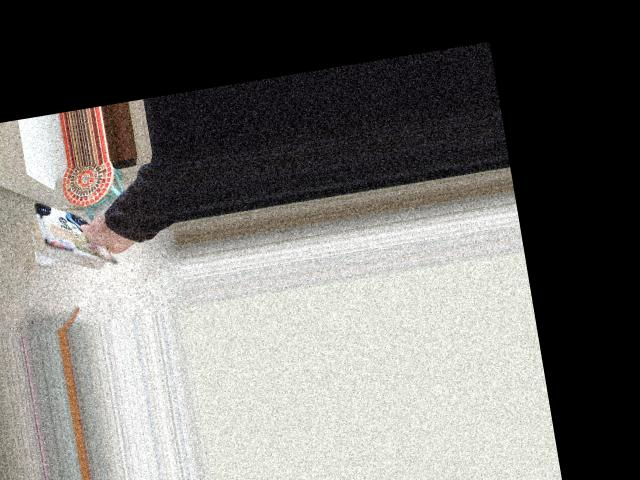cheese: (22, 175, 138, 288)
